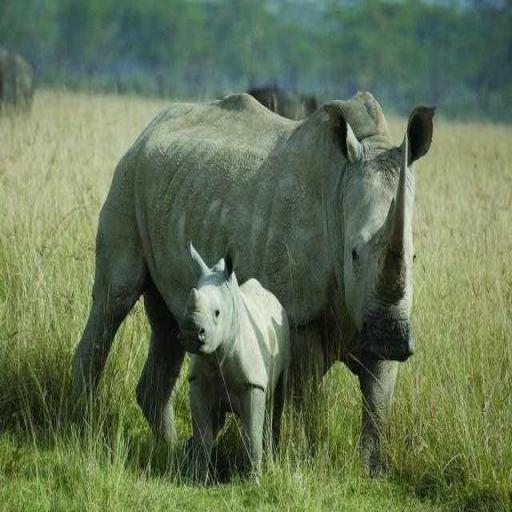Rhino: (64, 87, 436, 482), (178, 239, 291, 484)
